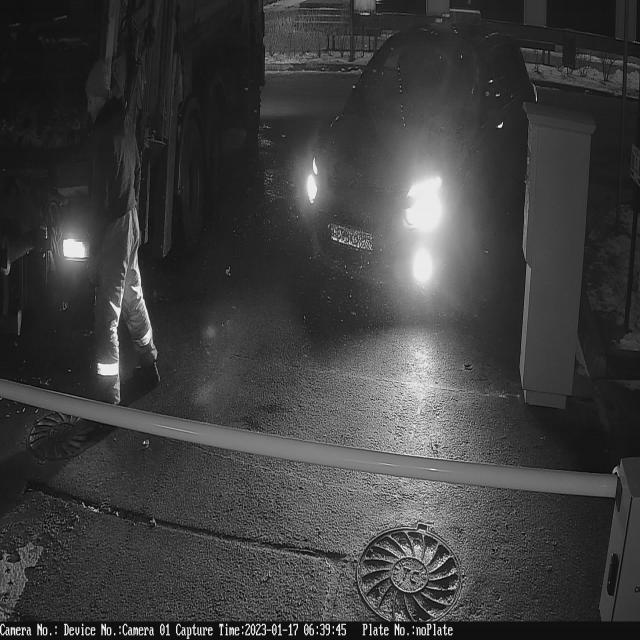car-plate-numbers: (328, 213, 376, 259)
